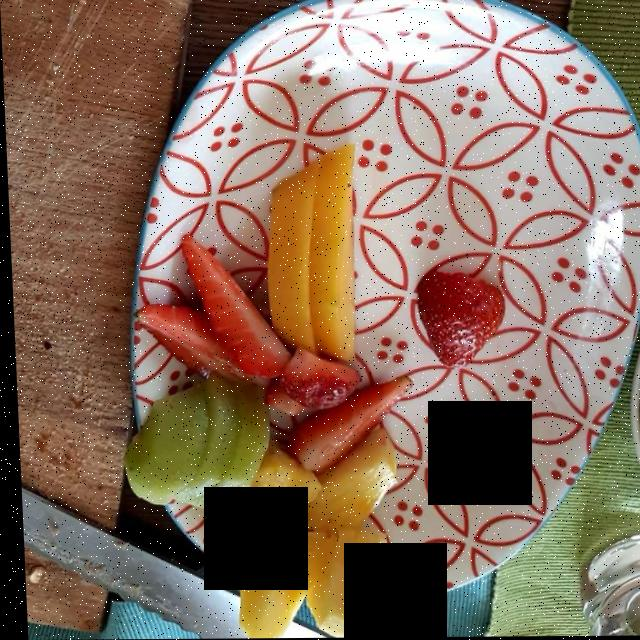kiwi: (97, 376, 262, 511)
mango: (269, 134, 364, 360)
pineapple: (209, 427, 396, 630)
strawberries: (137, 253, 514, 464)
